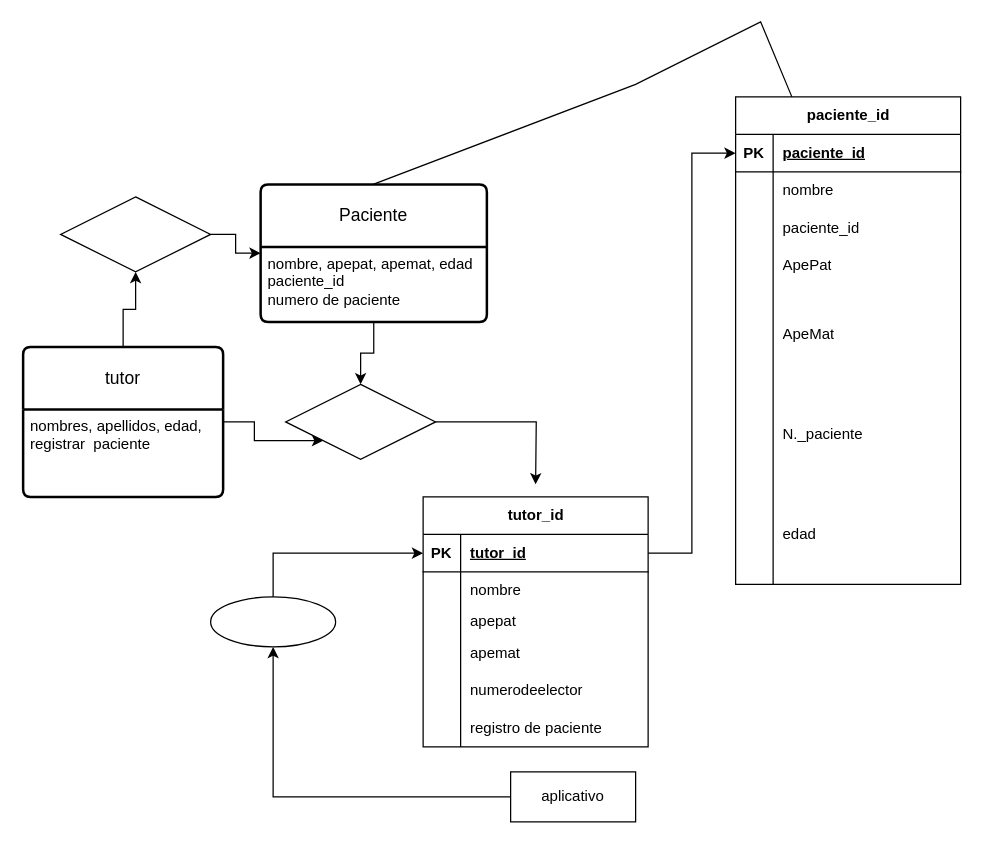
This 983x844 diagram has some shape labels left out. The centre of each missing label's shape, as x and y in pixels:
Hijo: pixel 135 234
iniciodesesion: pixel 272 621
registro de formulario: pixel 360 421
